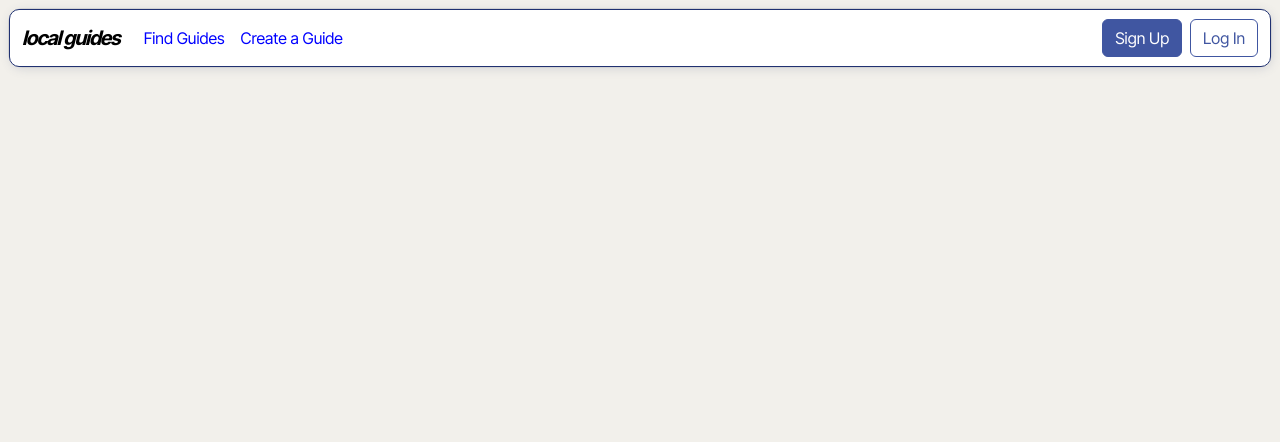
it: NavBar › it should navigate to the log in page if logged out,
Click the button "Log In": (1224, 38) x1=1190 y1=19 x2=1258 y2=57
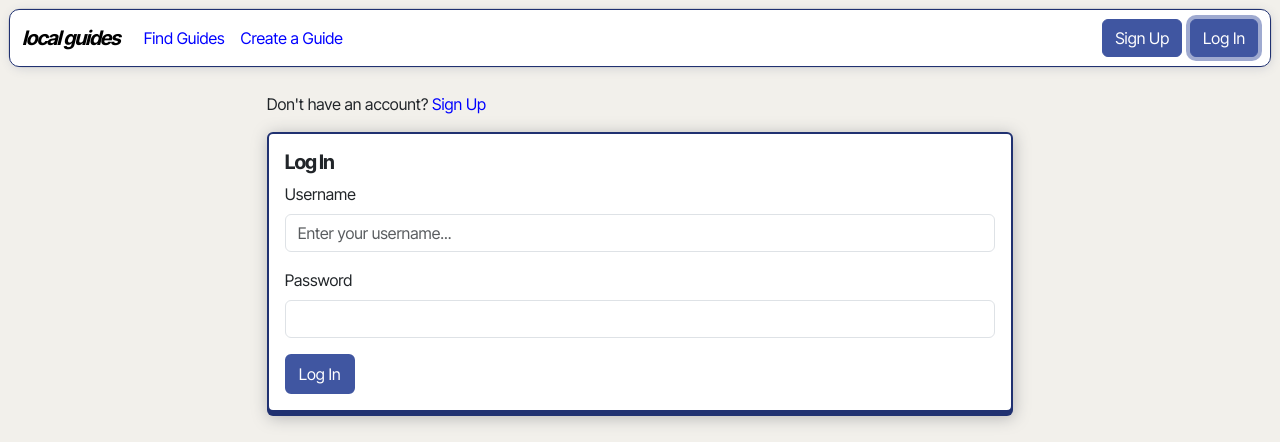
Result: the heading "Log In" is shown at x1=285 y1=150 x2=334 y2=174
